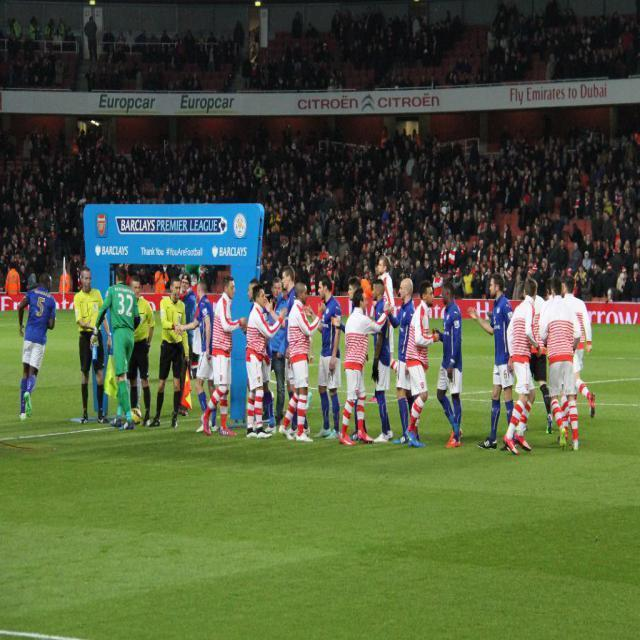ball: (130, 405, 141, 425)
